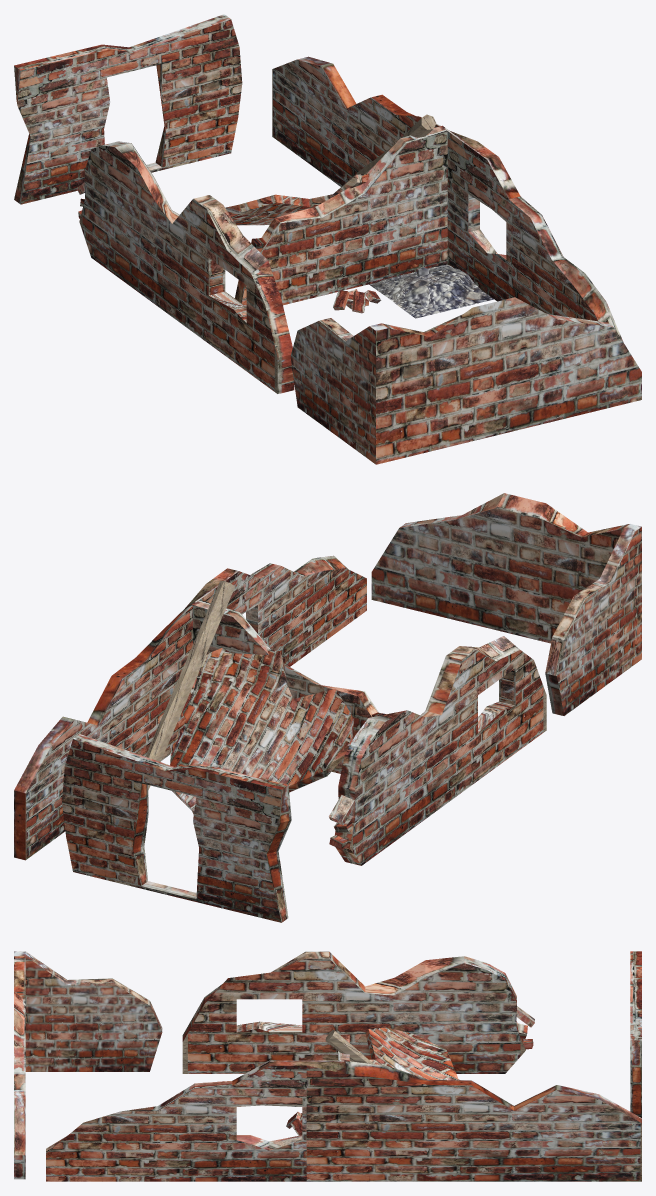
Rendered from 005_Newruinedbuilding.obj.
3 views of the same model, one above another, from view 1: azimuth 30°, elevation 25°; view 2: azimuth 150°, elevation 25°; view 3: azimuth 270°, elevation 25° (orthographic). The views are drawn at different scales.
Visible parts, largest first — view 1: Cube.001; view 2: Cube.001; view 3: Cube.001.
Boxes of the visible parts, box(x1,y1,x2,y2) form: Cube.001: box(14, 14, 641, 464); Cube.001: box(14, 493, 641, 922); Cube.001: box(14, 951, 641, 1181).
Bounding box in the file's own units: 104 × 58.13 × 239.
Materials: 1 (1 with a texture image).
